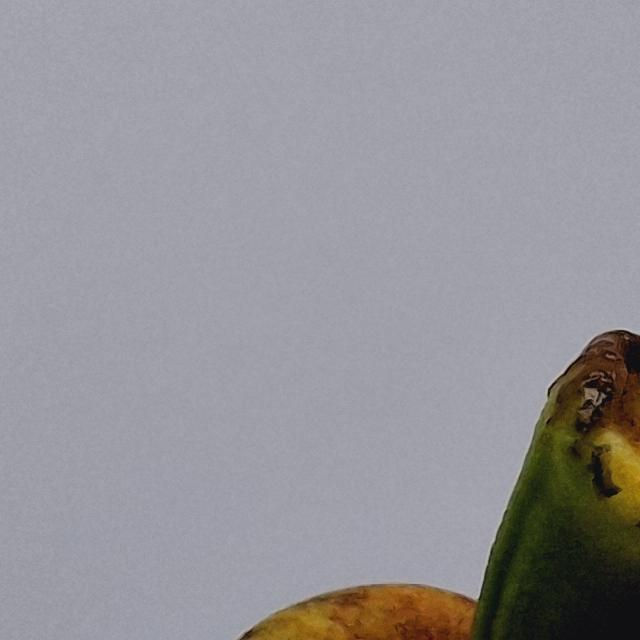mangosteen: (55, 285, 640, 640)
